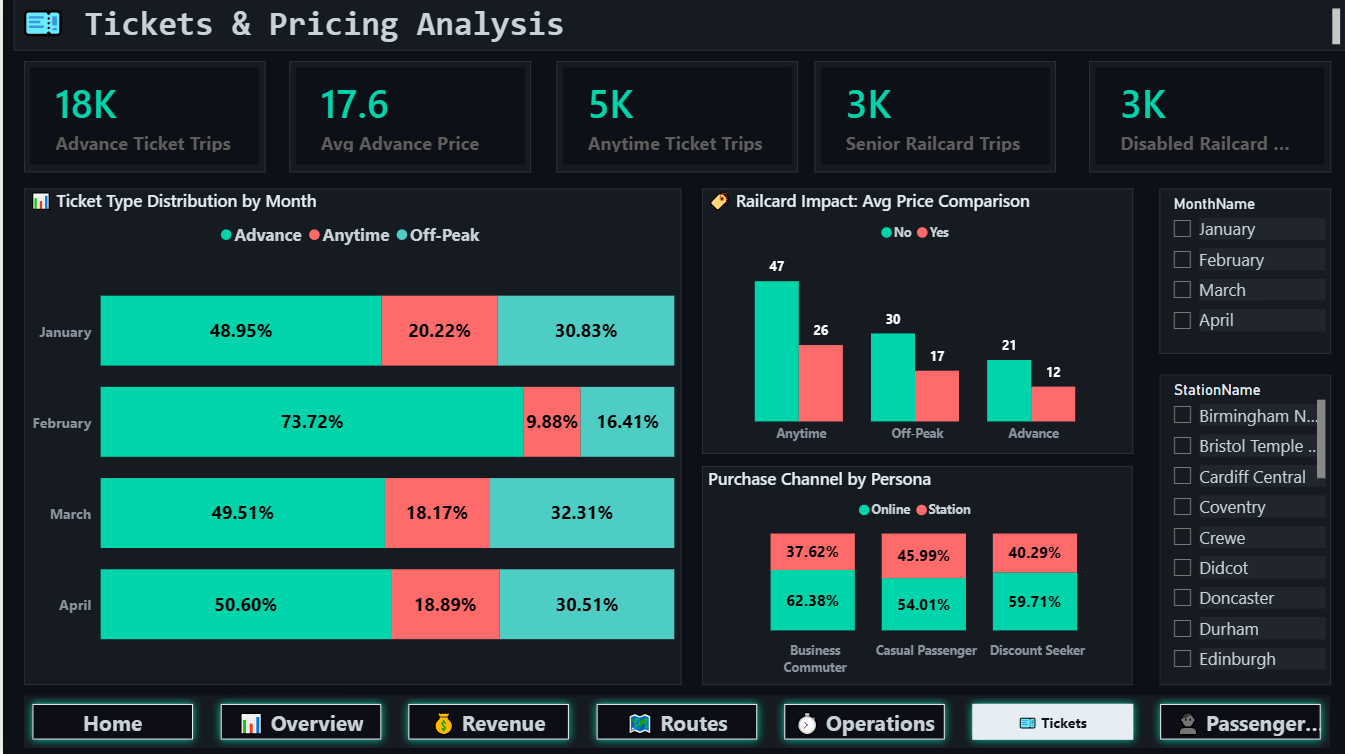

This screenshot's page, from the dashboard's own definition file:
{"tool":"powerbi","page":{"name":"🎫 Tickets","canvas":[1280,720],"ordinal":4},"visuals":[{"type":"hundredPercentStackedBarChart","title":"📊 Ticket Type Distribution by Month","fields":{"Category":["Dim_Date.MonthName"],"Y":["Measures_page1.Total Trips"],"Series":["Dim_Ticket.Ticket Type"]},"box":[19.7,192.3,625.4,461.8],"z":0},{"type":"textbox","box":[10,0,1270,50],"z":1000},{"type":"cardVisual","fields":{"Data":["Measures_page5.Advance Ticket Trips"]},"box":[20,60,230.2,106],"z":2000},{"type":"cardVisual","fields":{"Data":["Measures_page5.Avg Advance Price"]},"box":[273.5,60,230.2,106],"z":3000},{"type":"cardVisual","fields":{"Data":["Measures_page5.Anytime Ticket Trips"]},"box":[527,60,230.2,106],"z":4000},{"type":"cardVisual","fields":{"Data":["Measures_page5.Senior Railcard Trips"]},"box":[780.5,60,230.2,106],"z":5000},{"type":"cardVisual","fields":{"Data":["Measures_page5.Disabled Railcard Trips"]},"box":[1034,60.2,230.9,105.7],"z":6000},{"type":"pageNavigator","box":[20.3,664.3,1244.1,50],"z":7000},{"type":"clusteredColumnChart","title":"🏷️ Railcard Impact: Avg Price Comparison","fields":{"Category":["Dim_Ticket.Ticket Type"],"Y":["Measures_page1.Avg Ticket Price"],"Series":["Dim_Railcard.Has Railcard"]},"box":[666.3,181.7,410.3,252.9],"z":8000},{"type":"clusteredColumnChart","title":"📅 When Do Passengers Book? (Lead Days)","fields":{"Category":["Fact_Tickets.PurchaseLeadDays"],"Y":["Measures_page1.Total Trips"]},"box":[666.3,445.2,410.3,198.4],"z":8001},{"type":"slicer","fields":{"Values":["Dim_Date.MonthName"]},"box":[1100.8,181.7,163.5,157.5],"z":8002},{"type":"slicer","fields":{"Values":["Dim_Station.StationName"]},"box":[1100.8,358.9,163.5,295.3],"z":8003}]}

Visuals, with their boxes in screenshot pixels (x1, y1, x2, y2), scaled from the page's 1280x720 canvas onto the 1345x754 screenshot:
"📊 Ticket Type Distribution by Month" hundredPercentStackedBarChart: [21, 201, 678, 685]
textbox: [11, 0, 1344, 52]
cardVisual - Measures_page5.Advance Ticket Trips: [21, 63, 263, 174]
cardVisual - Measures_page5.Avg Advance Price: [287, 63, 529, 174]
cardVisual - Measures_page5.Anytime Ticket Trips: [554, 63, 796, 174]
cardVisual - Measures_page5.Senior Railcard Trips: [820, 63, 1062, 174]
cardVisual - Measures_page5.Disabled Railcard Trips: [1087, 63, 1329, 174]
pageNavigator: [21, 696, 1329, 748]
"🏷️ Railcard Impact: Avg Price Comparison" clusteredColumnChart: [700, 190, 1131, 455]
"📅 When Do Passengers Book? (Lead Days)" clusteredColumnChart: [700, 466, 1131, 674]
slicer - Dim_Date.MonthName: [1157, 190, 1329, 355]
slicer - Dim_Station.StationName: [1157, 376, 1329, 685]
